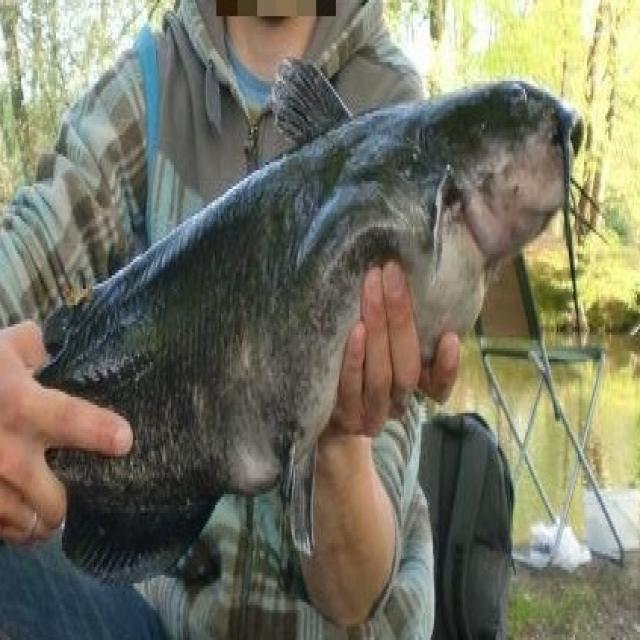Catfish: (14, 66, 595, 592)
